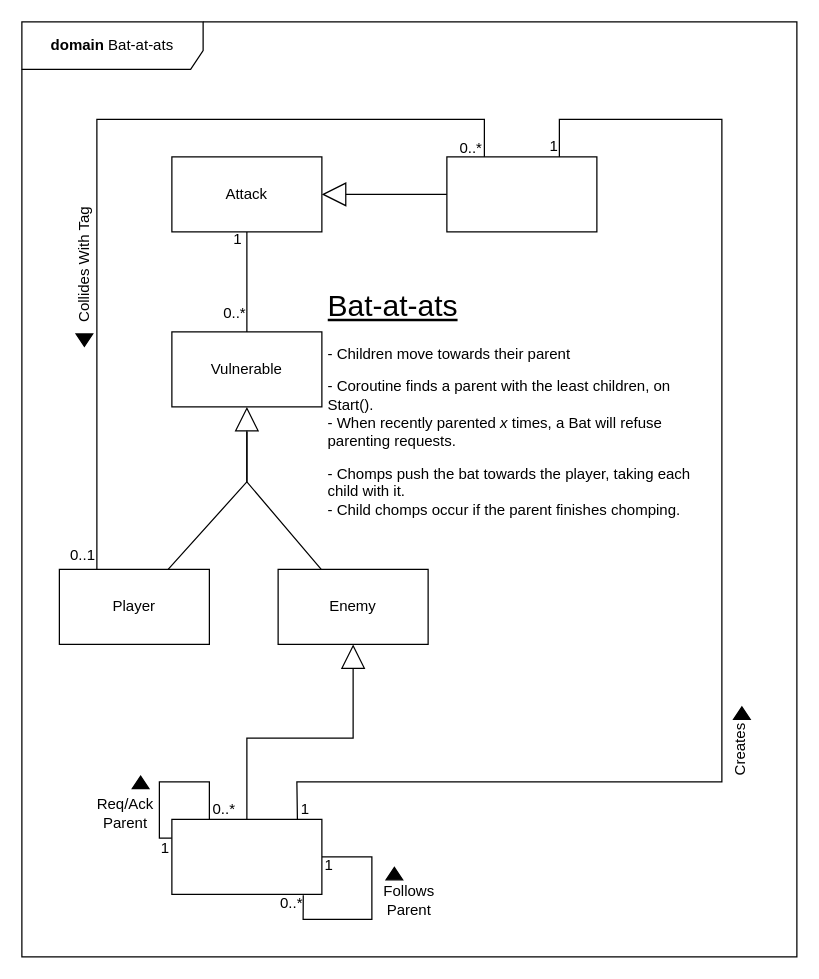
Some shapes in this 819 by 979 pixel diagram are drawn without their labels. Here are the shapes that lost their labels. From the top down, the centre of each, then its label:
At point (521, 194): "Chomp".
At point (246, 856): "Bat".
